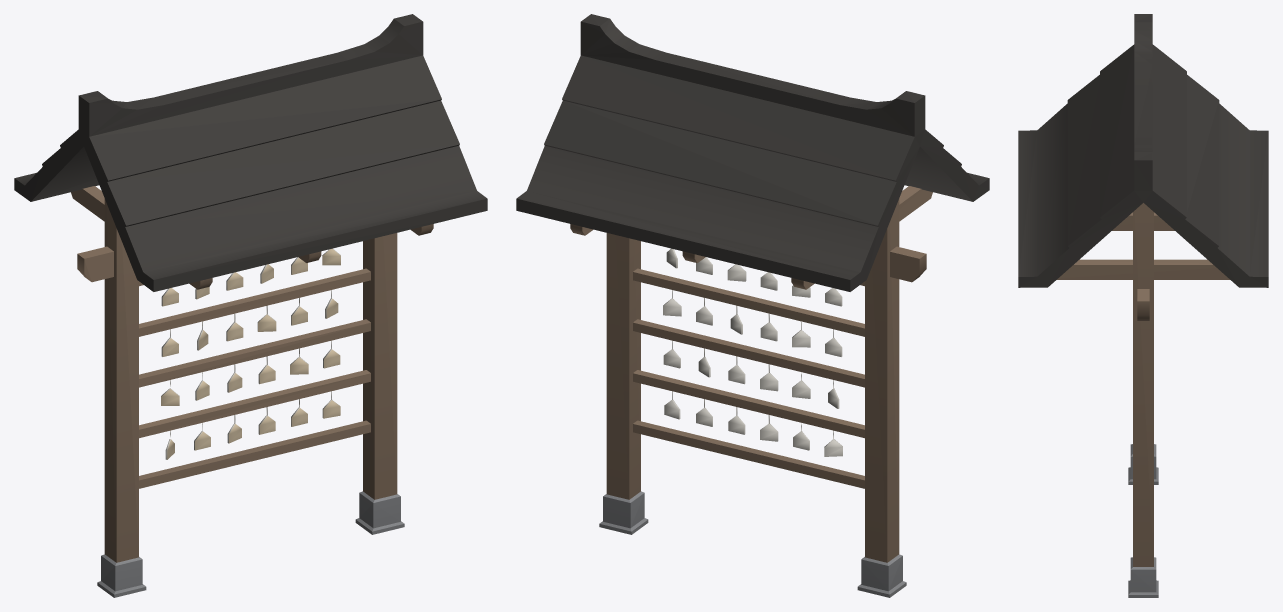
File: jp_ema_2.glb
3 renders of one model, left to right at view 1: azimuth 30°, elevation 25°; view 2: azimuth 150°, elevation 25°; view 3: azimuth 270°, elevation 25°, orthographic. The views are drawn at different scales.
Parts seen in each view (by area): view 1: jp_ema_2; view 2: jp_ema_2; view 3: jp_ema_2.
Boxes of the visible parts, x1,y1,x2,y2 form: jp_ema_2: (14,14,487,597); jp_ema_2: (516,14,989,597); jp_ema_2: (1018,14,1268,597).
Bounding box in the file's own units: 2.1 × 2.95 × 1.5.
